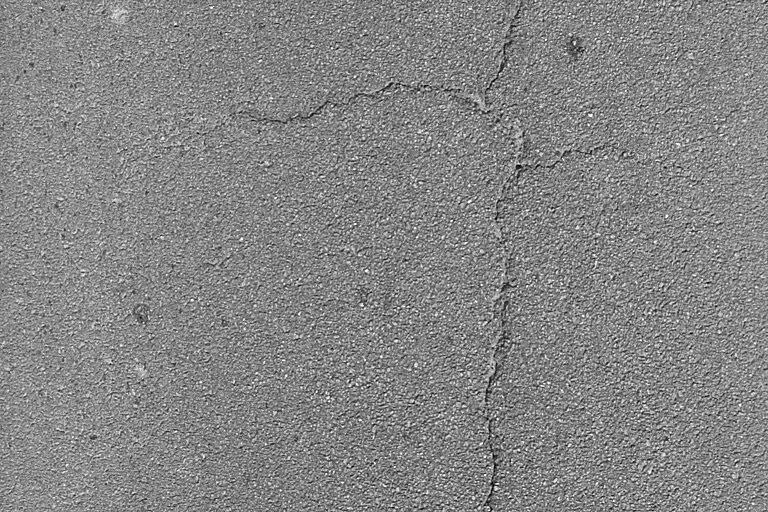crack: (247, 77, 489, 132), (482, 164, 516, 512), (474, 1, 522, 116), (507, 143, 634, 178), (486, 91, 535, 170)
